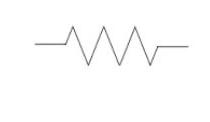resistor: (51, 15, 170, 78)
